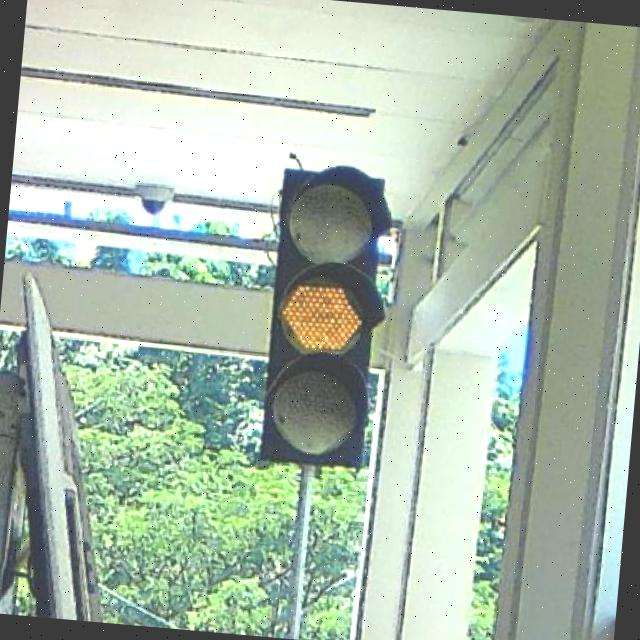yellow_light: (255, 164, 390, 471)
